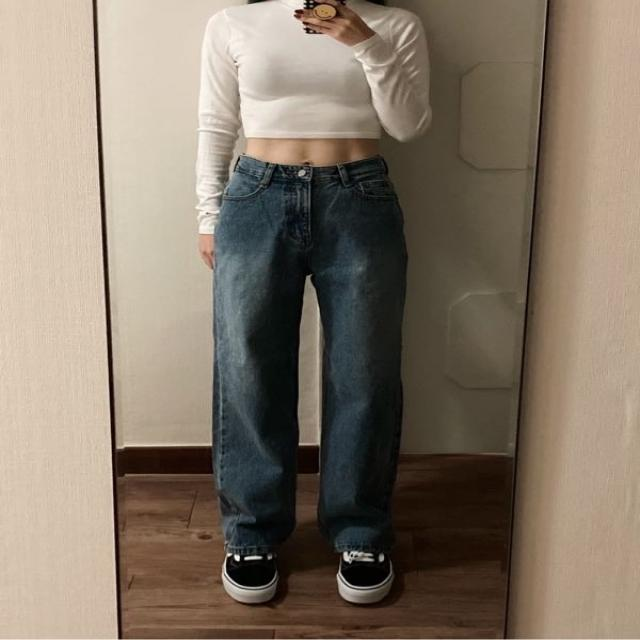denimpants: (216, 154, 409, 550)
longsleeve: (198, 0, 430, 232)
